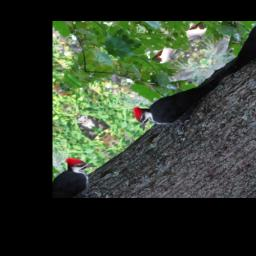Woodpecker: (122, 57, 240, 148)
